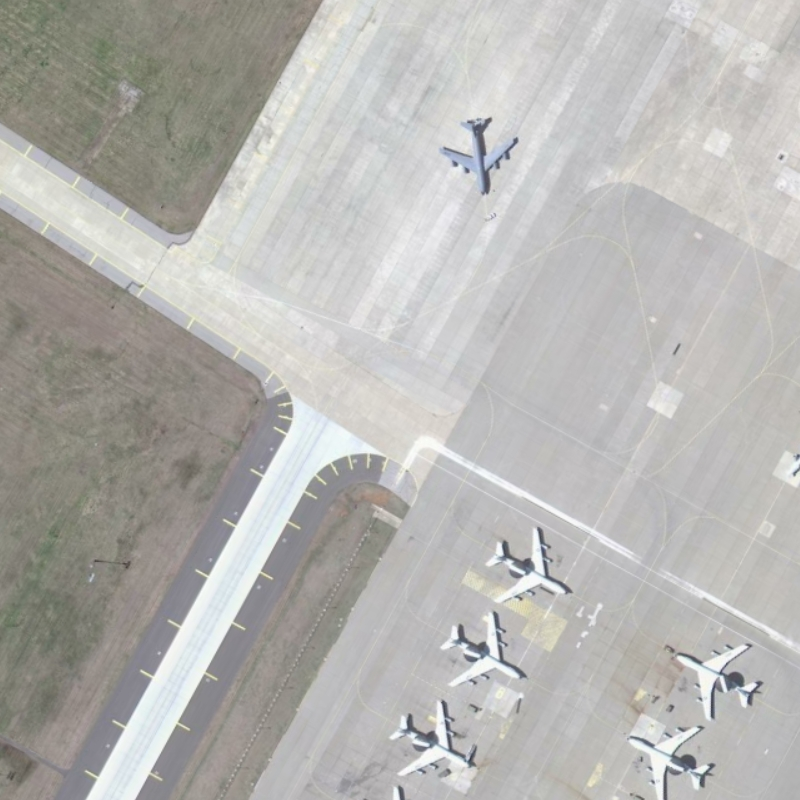A14: (436, 109, 528, 200)
A7: (664, 635, 765, 723), (619, 716, 718, 800), (481, 523, 574, 610), (387, 694, 476, 783), (438, 611, 532, 694)
